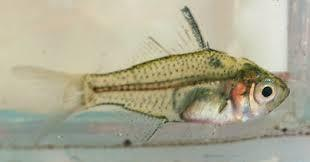Mosquito Fish: (12, 9, 290, 152)
